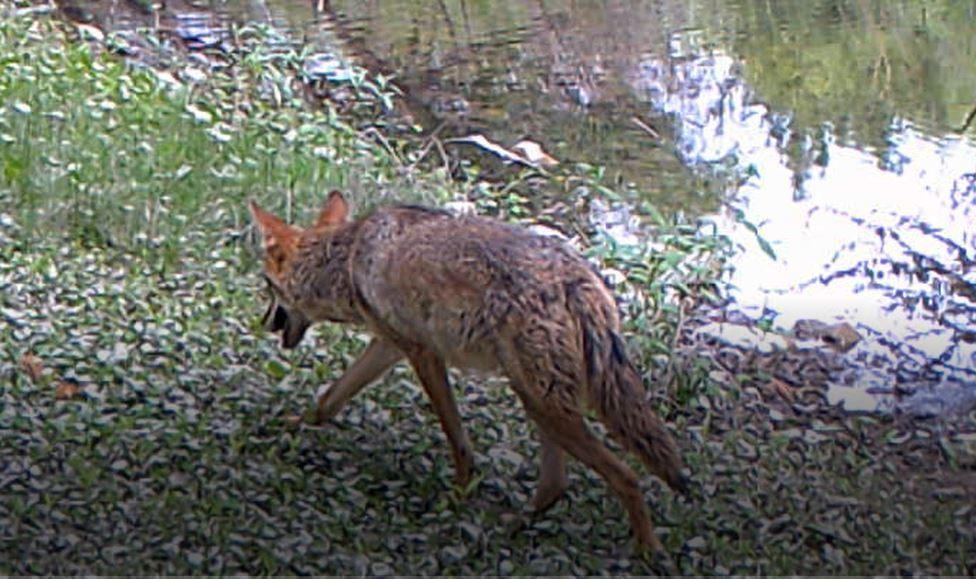Coyote: (247, 189, 695, 555)
